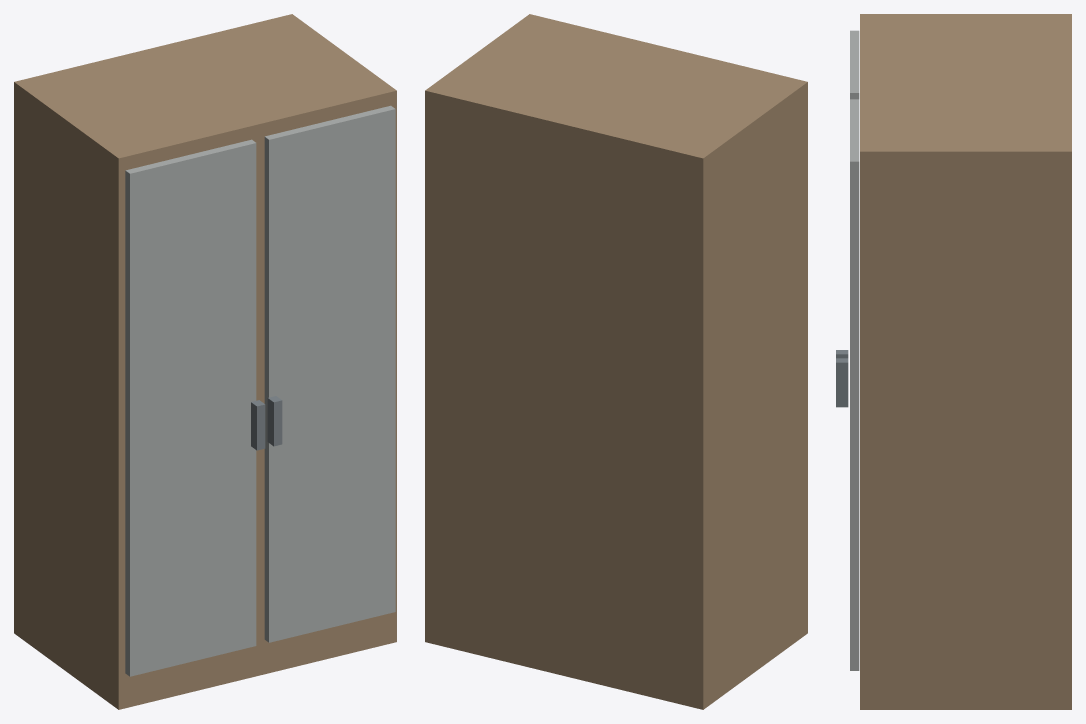
The picture shows the model from 3 angles, left to right: view 1: azimuth 30°, elevation 25°; view 2: azimuth 150°, elevation 25°; view 3: azimuth 270°, elevation 25°; orthographic projection.
Visible parts, largest first — view 1: 000_Cabinet_body, 001_Cabinet_door_L, 002_Cabinet_door_R, 007_Door_pull, 006_Door_pull; view 2: 000_Cabinet_body; view 3: 000_Cabinet_body, 002_Cabinet_door_R, 001_Cabinet_door_L, 007_Door_pull.
Boxes of the visible parts, x1=… form: 000_Cabinet_body: x1=14, y1=14, x2=396, y2=709; 001_Cabinet_door_L: x1=125, y1=139, x2=256, y2=676; 002_Cabinet_door_R: x1=264, y1=105, x2=395, y2=642; 007_Door_pull: x1=267, y1=396, x2=282, y2=446; 006_Door_pull: x1=251, y1=400, x2=265, y2=450; 000_Cabinet_body: x1=425, y1=14, x2=807, y2=709; 000_Cabinet_body: x1=860, y1=14, x2=1071, y2=709; 002_Cabinet_door_R: x1=850, y1=99, x2=859, y2=670; 001_Cabinet_door_L: x1=850, y1=30, x2=859, y2=99; 007_Door_pull: x1=836, y1=358, x2=848, y2=407.
Bounding box in the file's own units: 0.66 × 1.25 × 0.4785.
